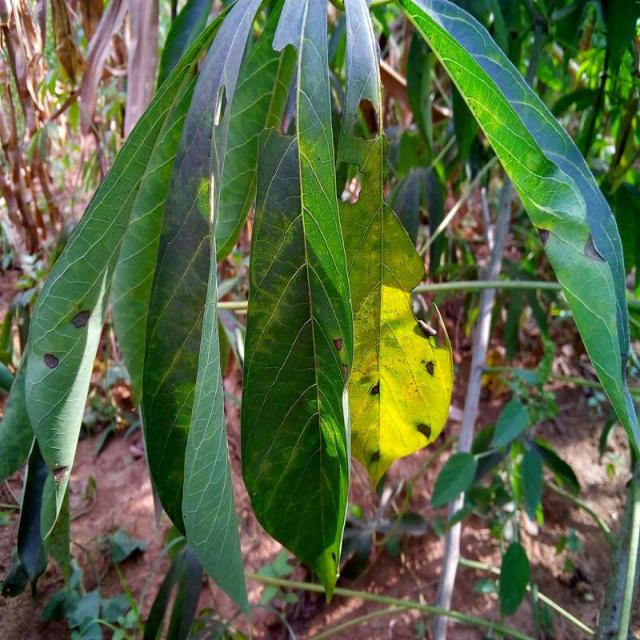cassava leaf: (12, 0, 638, 621), (398, 0, 640, 457), (240, 0, 355, 604)
